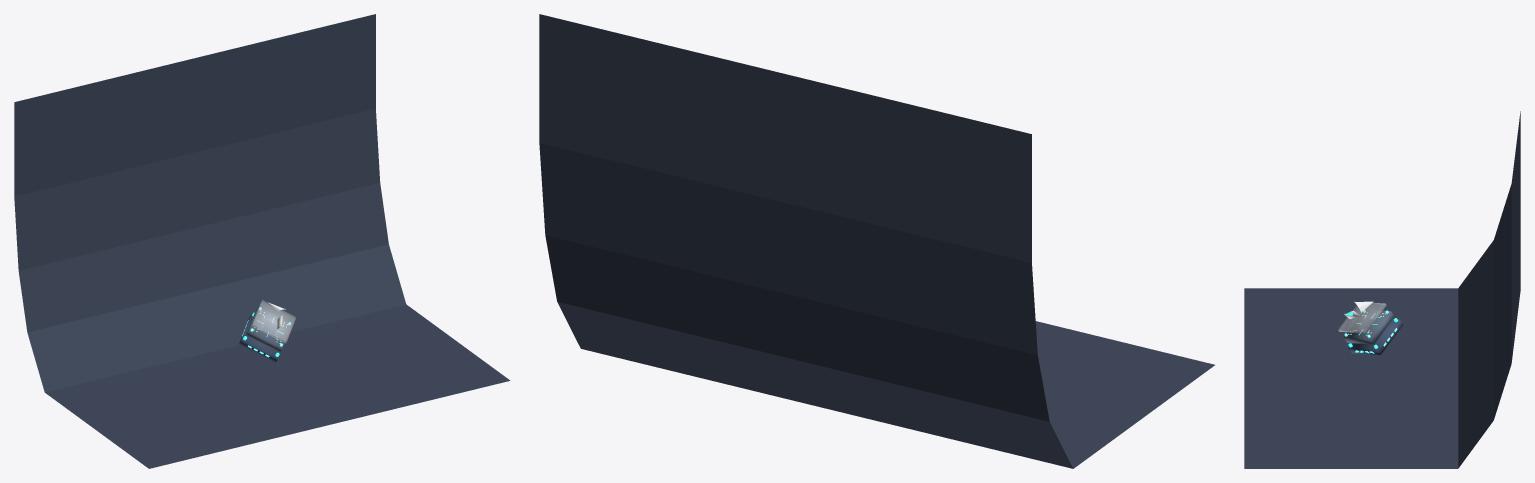
Rendered from modular_tech_cube_lowpoly.glb.
3 views of the same model, side by side, from view 1: azimuth 30°, elevation 25°; view 2: azimuth 150°, elevation 25°; view 3: azimuth 270°, elevation 25° (orthographic). The views are drawn at different scales.
Parts seen in each view (by area): view 1: Studio_Cyclorama, Tech_Module_Slab, Top_Glass_Plate, Server_Base_Slab; view 2: Studio_Cyclorama; view 3: Studio_Cyclorama, Tech_Module_Slab, Top_Glass_Plate, Server_Base_Slab.
Part boxes in pixels (<box>): Studio_Cyclorama: <box>14,14,510,468</box>; Tech_Module_Slab: <box>246,306,291,352</box>; Top_Glass_Plate: <box>252,300,295,343</box>; Server_Base_Slab: <box>239,313,281,362</box>; Studio_Cyclorama: <box>539,14,1214,468</box>; Studio_Cyclorama: <box>1244,111,1520,468</box>; Tech_Module_Slab: <box>1343,309,1394,344</box>; Top_Glass_Plate: <box>1338,302,1386,333</box>; Server_Base_Slab: <box>1348,319,1403,354</box>.
Size of the model in its own units: 24 by 17 by 15.5.
